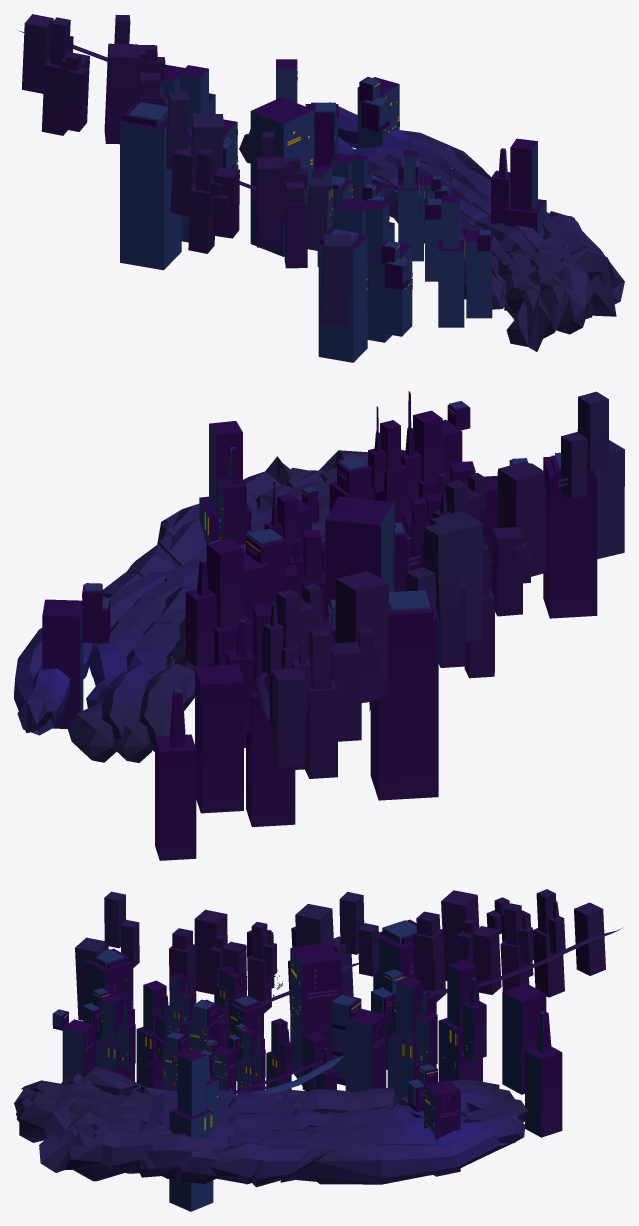
The model's file is CityBg.fbx.
3 views of the same model, one above another, from view 1: azimuth 30°, elevation 25°; view 2: azimuth 150°, elevation 25°; view 3: azimuth 270°, elevation 25° (orthographic). The views are drawn at different scales.
Visible parts, largest first — view 1: CityBg; view 2: CityBg; view 3: CityBg.
Boxes of the visible parts, box(x1,y1,x2,y2) form: CityBg: box(18, 14, 624, 362); CityBg: box(14, 391, 624, 860); CityBg: box(14, 889, 623, 1211).
Size of the model in its own units: 307 by 184 by 520.
